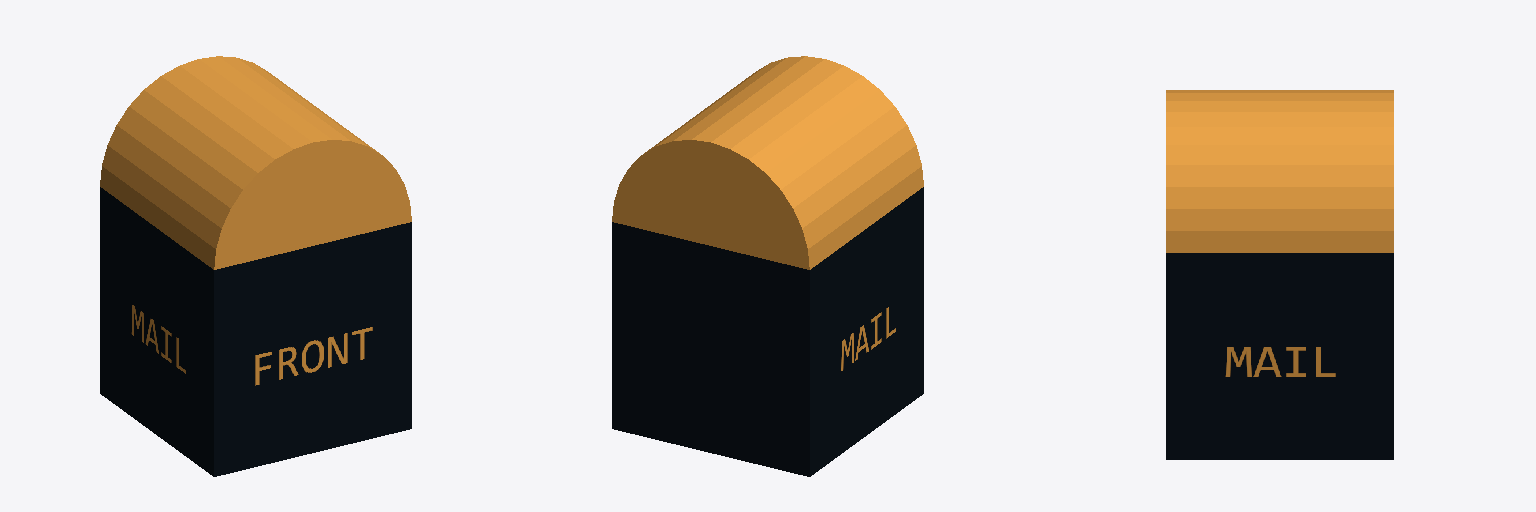
3 renders of one model, left to right at view 1: azimuth 30°, elevation 25°; view 2: azimuth 150°, elevation 25°; view 3: azimuth 270°, elevation 25°, orthographic.
Visible parts, largest first — view 1: Cube; view 2: Cube; view 3: Cube.
Boxes of the visible parts, x1=… form: Cube: x1=100, y1=56, x2=411, y2=476; Cube: x1=612, y1=56, x2=923, y2=476; Cube: x1=1166, y1=90, x2=1393, y2=459.
Bounding box in the file's own units: 2 × 3 × 2.
1 materials, 1 textured.